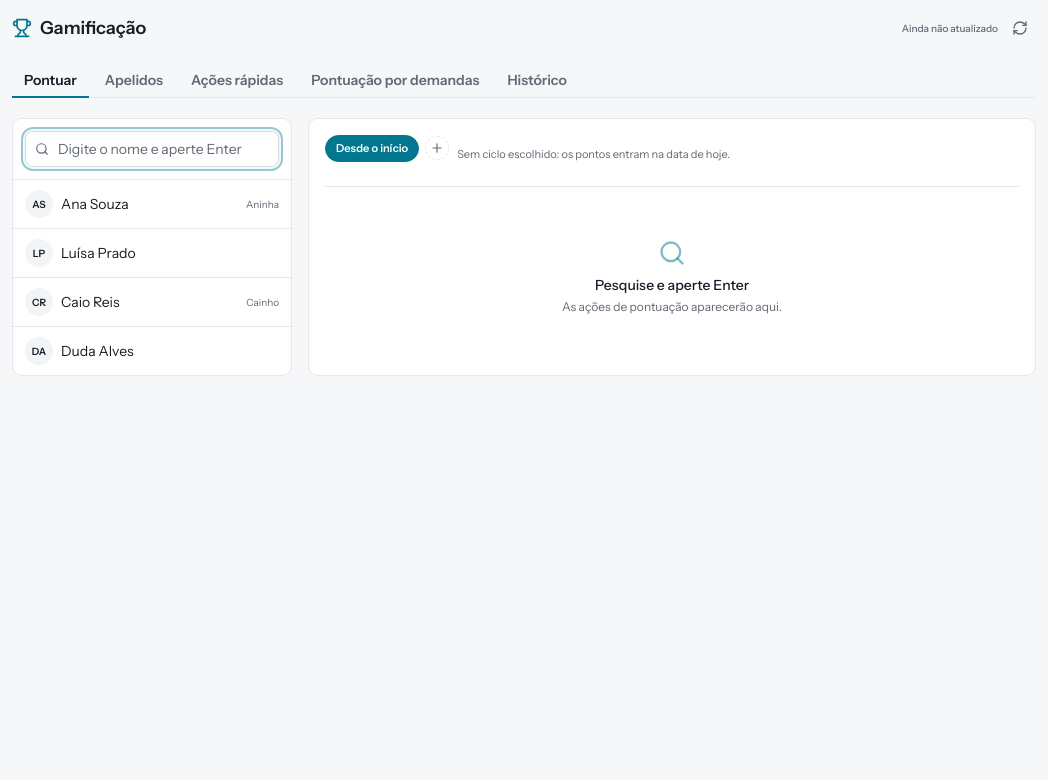
aba de apelidos › clicar na área revela os nomes de quem não tem apelido
Click the button "Apelidos" at (134, 81), box 93,64 -> 175,98
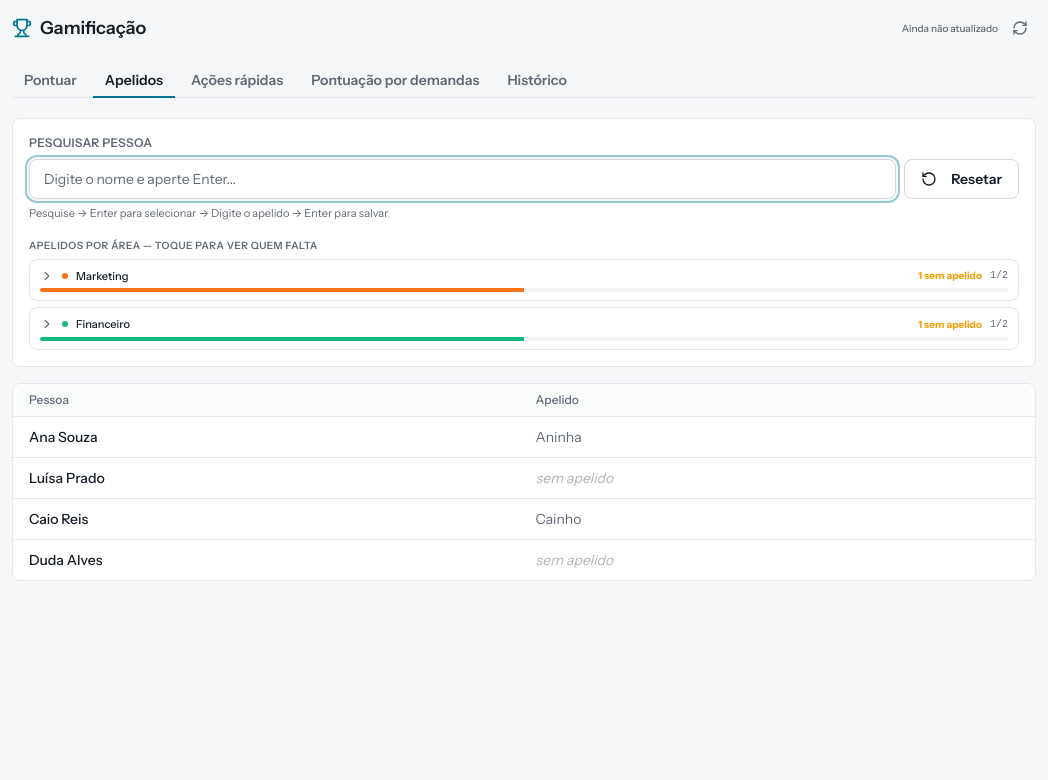
Expected: the text "Sem apelido (1)" is not shown
Click the button "Marketing 1 sem apelido 1/2" at (102, 276), box 30,260 -> 1018,300
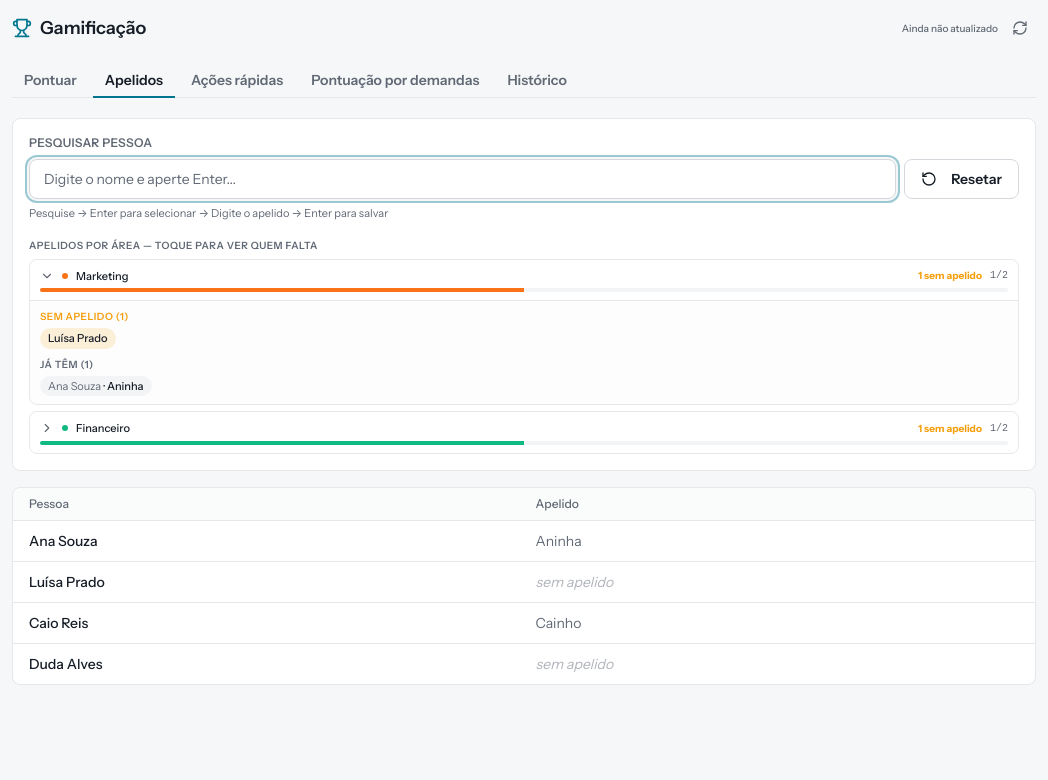
Now the text "Sem apelido (1)" is shown, box 40,310 -> 129,323
Now the button "Luísa Prado" is shown, box 40,328 -> 116,348
Now the text "Já têm (1)" is shown, box 40,358 -> 94,370
